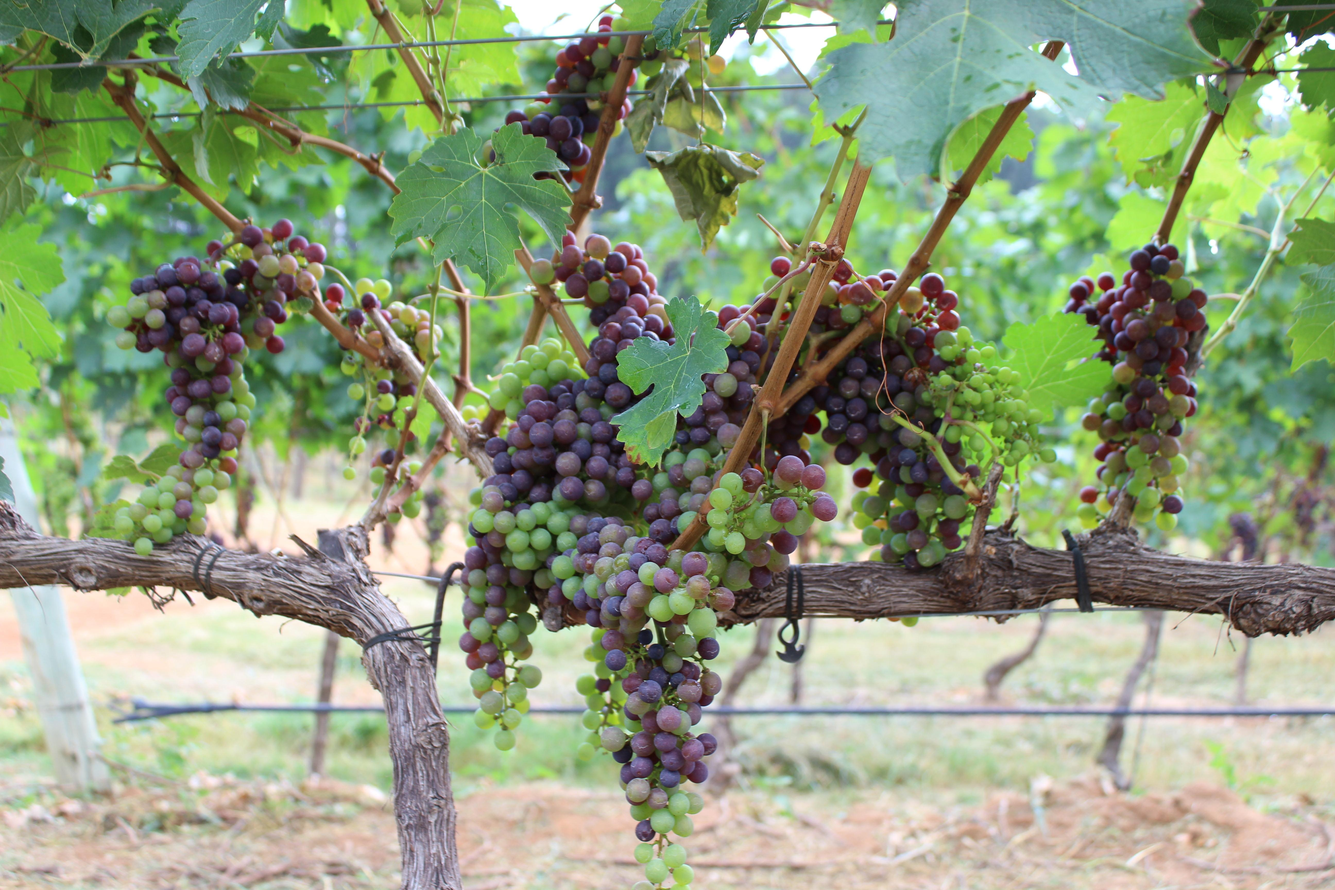leaf: (816, 0, 1209, 179), (389, 123, 570, 288), (611, 296, 729, 466), (645, 144, 764, 251), (1004, 312, 1110, 415), (0, 224, 64, 391), (1106, 82, 1204, 180), (0, 0, 162, 59), (177, 0, 265, 80), (625, 58, 689, 152), (192, 112, 258, 199), (1289, 266, 1335, 372), (275, 23, 350, 80), (446, 42, 522, 96), (977, 117, 1034, 184), (0, 122, 37, 225), (1191, 0, 1257, 57), (947, 106, 1002, 173), (1105, 191, 1166, 251), (187, 58, 255, 110), (437, 0, 517, 40), (706, 0, 756, 54), (1297, 41, 1335, 109), (652, 0, 701, 50), (1285, 218, 1335, 265), (830, 0, 886, 41), (0, 350, 40, 393), (101, 21, 146, 59), (51, 65, 107, 93), (138, 444, 181, 477), (102, 455, 149, 484), (618, 0, 662, 30), (255, 0, 285, 41), (744, 0, 769, 44), (1205, 81, 1230, 114), (0, 457, 15, 503), (51, 44, 82, 63), (52, 44, 84, 62), (405, 17, 426, 34), (772, 13, 779, 20), (268, 0, 280, 3), (685, 84, 690, 89), (417, 4, 421, 9), (691, 133, 695, 135), (591, 90, 596, 91), (390, 109, 392, 110)
